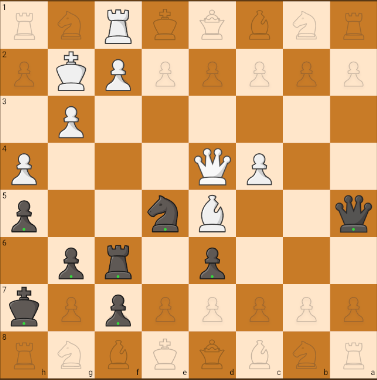bk: (2, 286, 45, 329)
bn: (144, 192, 185, 235)
bp: (49, 241, 90, 283), (196, 242, 231, 283), (99, 292, 138, 328), (6, 195, 39, 235)
bq: (332, 191, 373, 235)
br: (101, 241, 140, 284)
wb: (195, 193, 232, 236)
wk: (48, 51, 92, 93)
wp: (3, 146, 45, 190), (97, 54, 139, 92), (52, 102, 88, 140), (244, 153, 277, 186)
wq: (188, 145, 234, 189)
wr: (99, 5, 138, 47)
